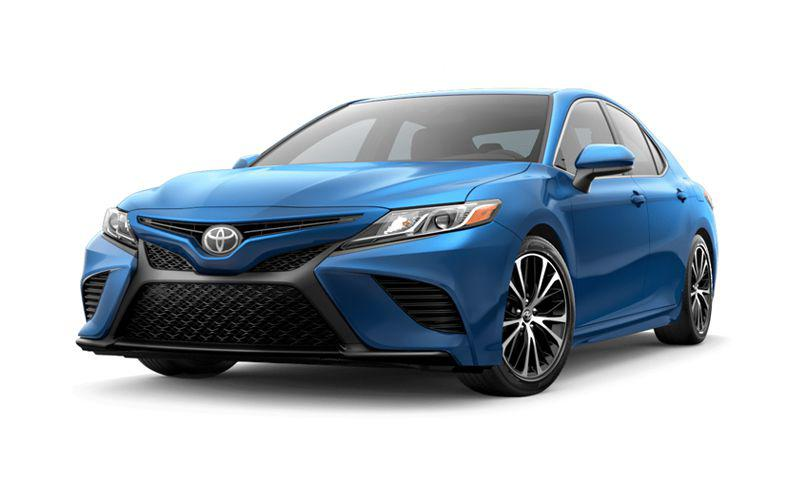car: (61, 76, 757, 404)
